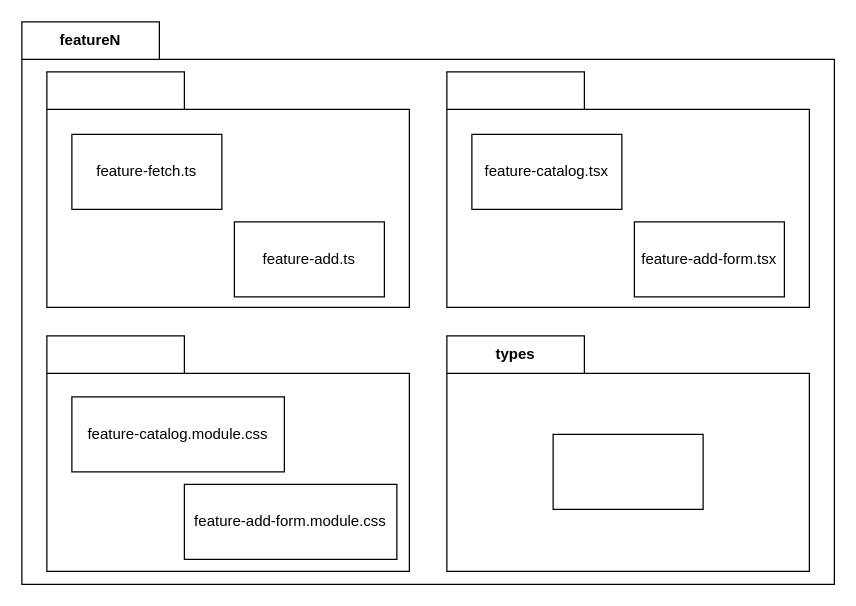
This 856x606 diagram has some shape labels left out. Here are the shapes that lost their labels. From the top down, the box of each, then its label:
(46, 71, 409, 307): api
(446, 71, 809, 307): components
(46, 335, 409, 571): styles
(552, 433, 703, 509): feature.ts
